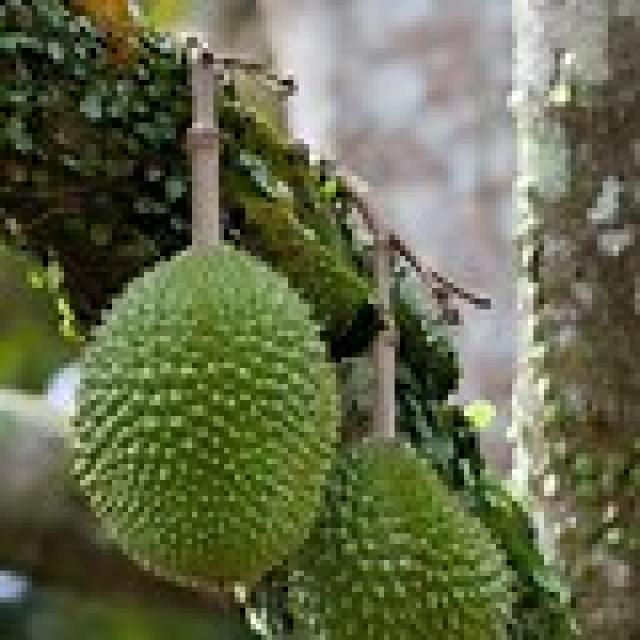immature: (74, 238, 344, 590)
